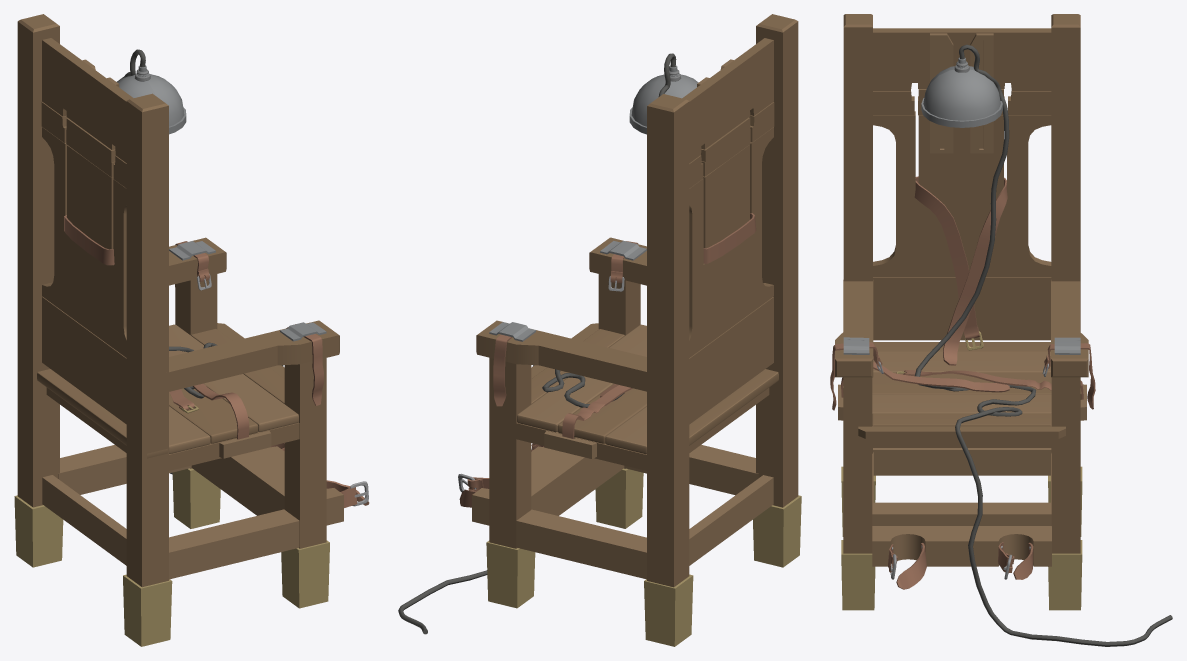
File: electric chair.fbx
3 views of the same model, side by side, from view 1: azimuth 30°, elevation 25°; view 2: azimuth 150°, elevation 25°; view 3: azimuth 270°, elevation 25° (orthographic). The views are drawn at different scales.
Visible parts, largest first — view 1: pCube87, pCylinder13, pCube39, pPlane2, pCube88, pPlane6, polySurface4, pCylinder12; view 2: pCube87, pCylinder12, pCylinder13, pCube39, pPlane5, pCube88, pPlane7, polySurface5; view 3: pCube87, pCylinder12, pCube88, pCylinder13, pCube39, pCube65, pCube66, pPlane2, pPlane5, polySurface4, polySurface5, pPlane7.
Part boxes in pixels (left/top/right/bottom): pCube87: left=14, top=14, right=343, bottom=646; pCylinder13: left=117, top=65, right=186, bottom=134; pCube39: left=191, top=329, right=284, bottom=403; pPlane2: left=192, top=383, right=249, bottom=439; pCube88: left=64, top=215, right=114, bottom=265; pPlane6: left=286, top=324, right=323, bottom=405; polySurface4: left=326, top=480, right=369, bottom=507; pCylinder12: left=117, top=49, right=283, bottom=474; pCube87: left=472, top=14, right=801, bottom=646; pCylinder12: left=398, top=53, right=676, bottom=634; pCylinder13: left=629, top=65, right=698, bottom=134; pCube39: left=531, top=329, right=624, bottom=403; pPlane5: left=562, top=385, right=632, bottom=438; pCube88: left=703, top=213, right=756, bottom=263; pPlane7: left=493, top=334, right=511, bottom=406; polySurface5: left=458, top=473, right=489, bottom=507; pCube87: left=835, top=14, right=1088, bottom=610; pCylinder12: left=915, top=44, right=1172, bottom=646; pCube88: left=914, top=176, right=1007, bottom=365; pCylinder13: left=921, top=57, right=1002, bottom=127; pCube39: left=872, top=413, right=1051, bottom=426; pCube65: left=930, top=33, right=953, bottom=153; pCube66: left=970, top=33, right=993, bottom=153; pPlane2: left=841, top=362, right=1009, bottom=397; pPlane5: left=896, top=370, right=1083, bottom=399; polySurface4: left=888, top=543, right=926, bottom=589; polySurface5: left=998, top=542, right=1033, bottom=579; pPlane7: left=1042, top=343, right=1095, bottom=409.
Size of the model in its own units: 2.33 by 4.69 by 2.81.
